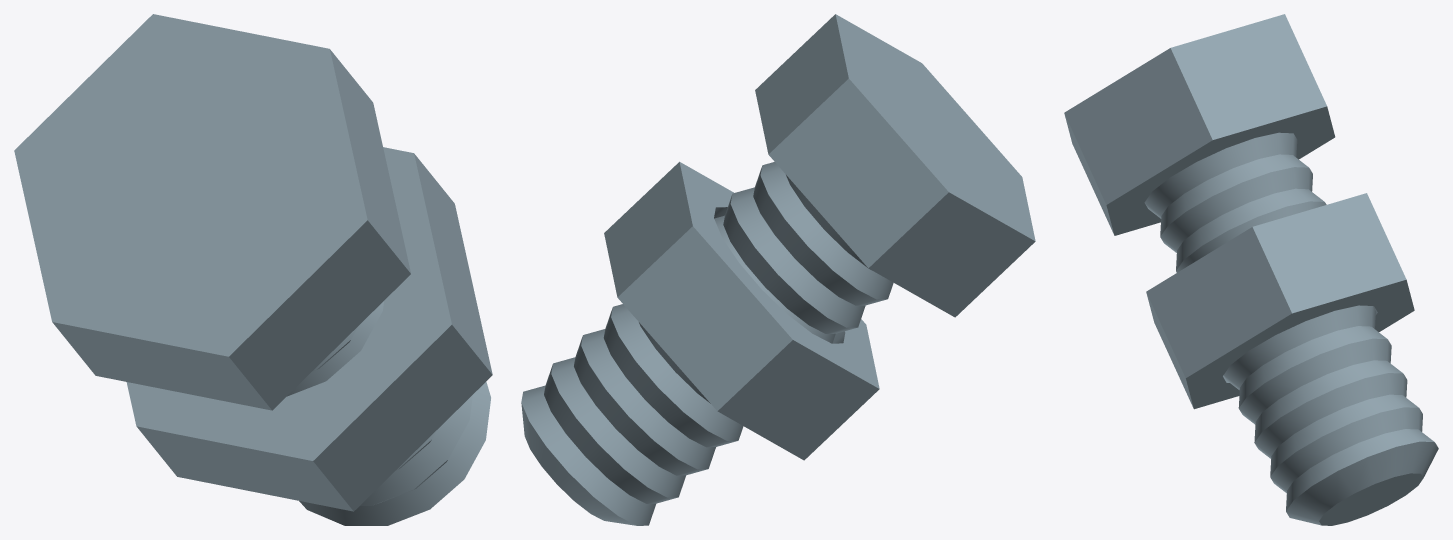
The model's file is nut_and_bolt.gltf.
The picture shows the model from 3 angles, left to right: view 1: azimuth 30°, elevation 25°; view 2: azimuth 150°, elevation 25°; view 3: azimuth 270°, elevation 25°; orthographic projection. The views are drawn at different scales.
Parts seen in each view (by area): view 1: Circle.2589; view 2: Circle.2589; view 3: Circle.2589.
Boxes of the visible parts, box(x1,y1,x2,y2) form: Circle.2589: box(14, 14, 492, 525); Circle.2589: box(521, 14, 1035, 525); Circle.2589: box(1064, 14, 1438, 525).
Bounding box in the file's own units: 1.89 × 2 × 1.61.
Materials: 1 (1 with a texture image).
